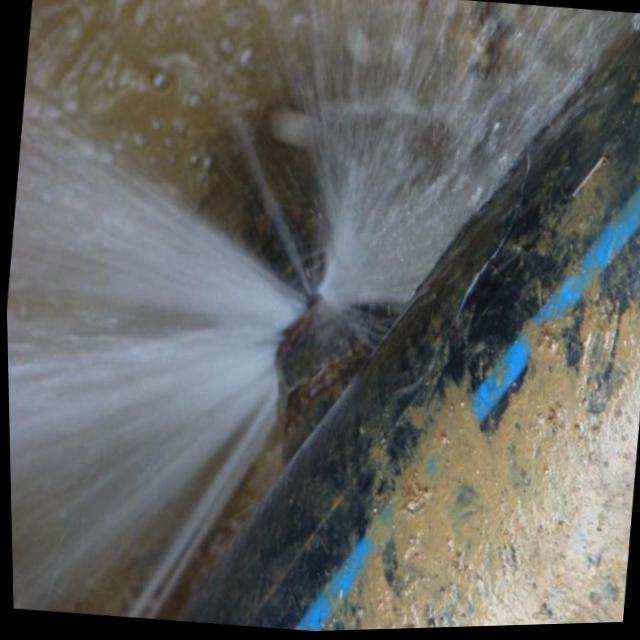leak: (7, 106, 417, 612)
